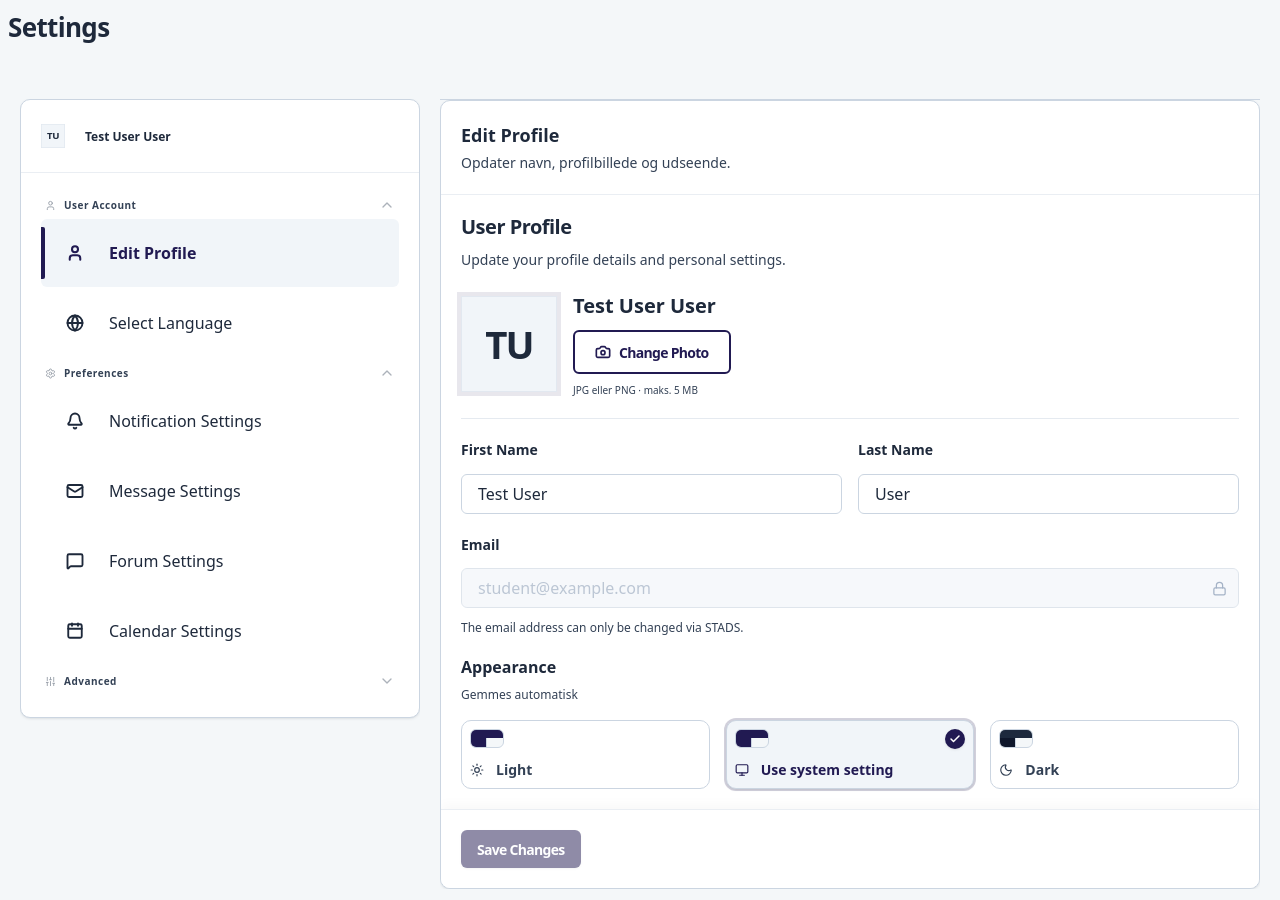
Scenario: Settings Page › selects different tabs and shows correct content
Click the button "Advanced" at [90, 681], box [41,669,399,693]
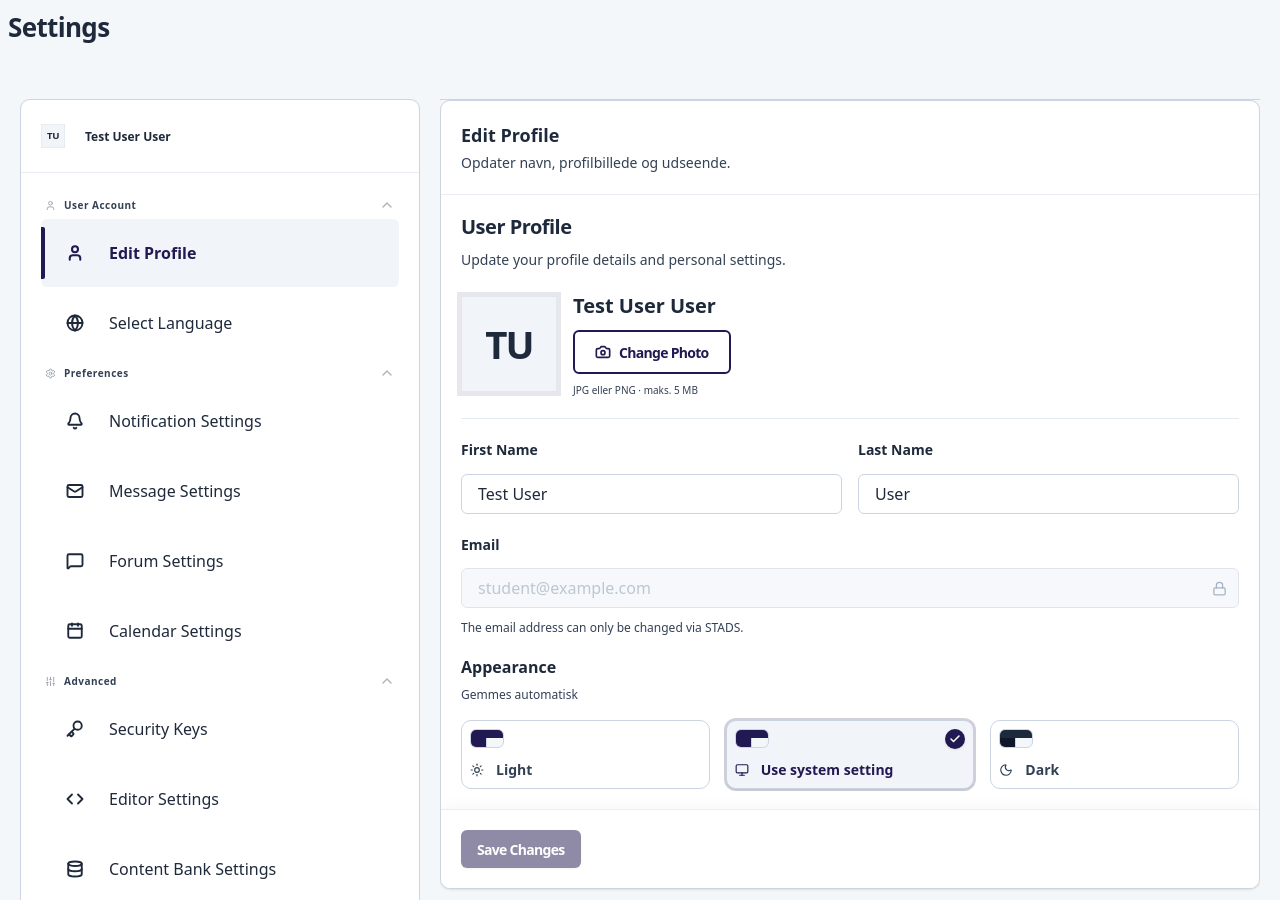
Click the button "Security Keys" at [158, 729], box [41,695,399,763]
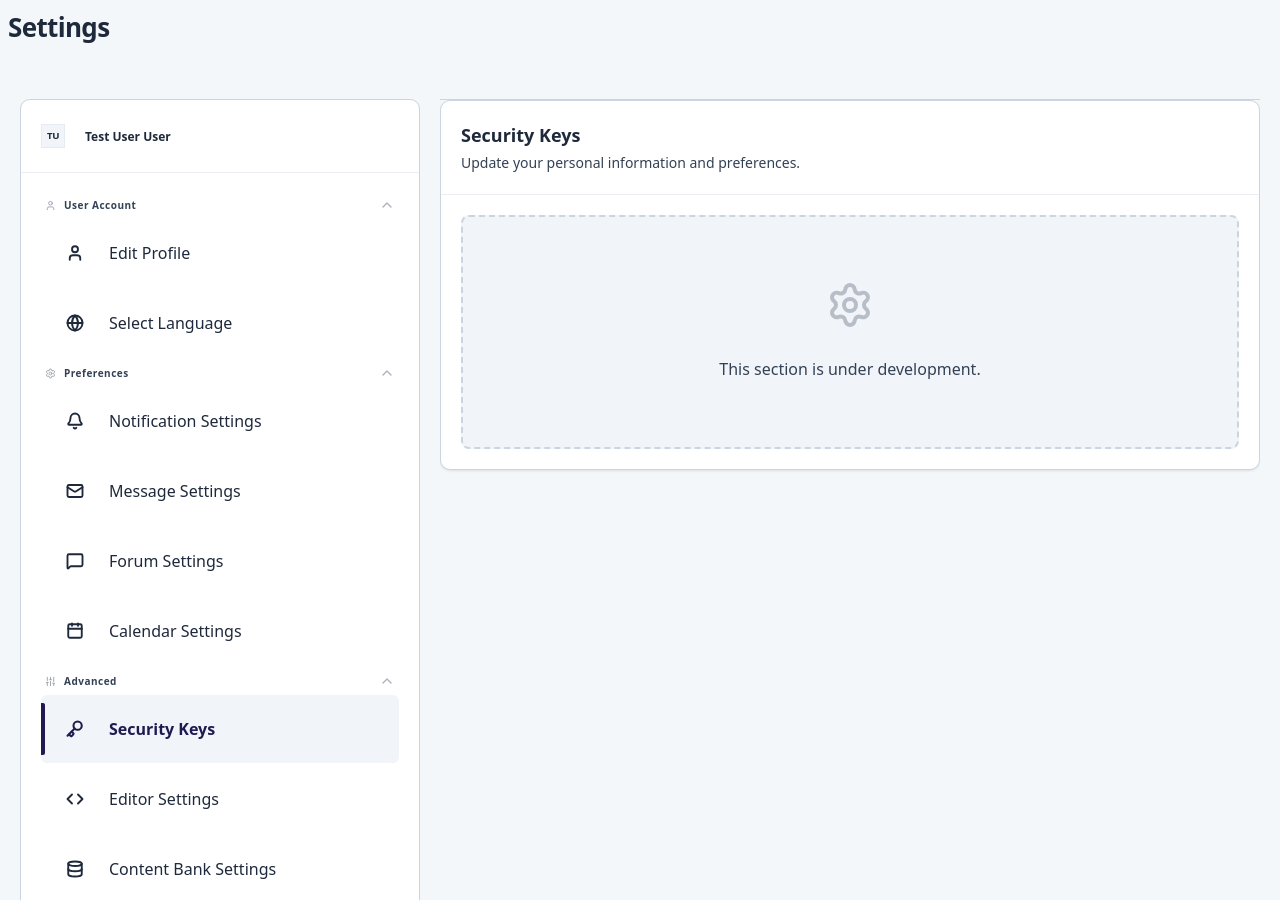
Check: the text "This section is under development." is shown, box [719,357,981,383]
